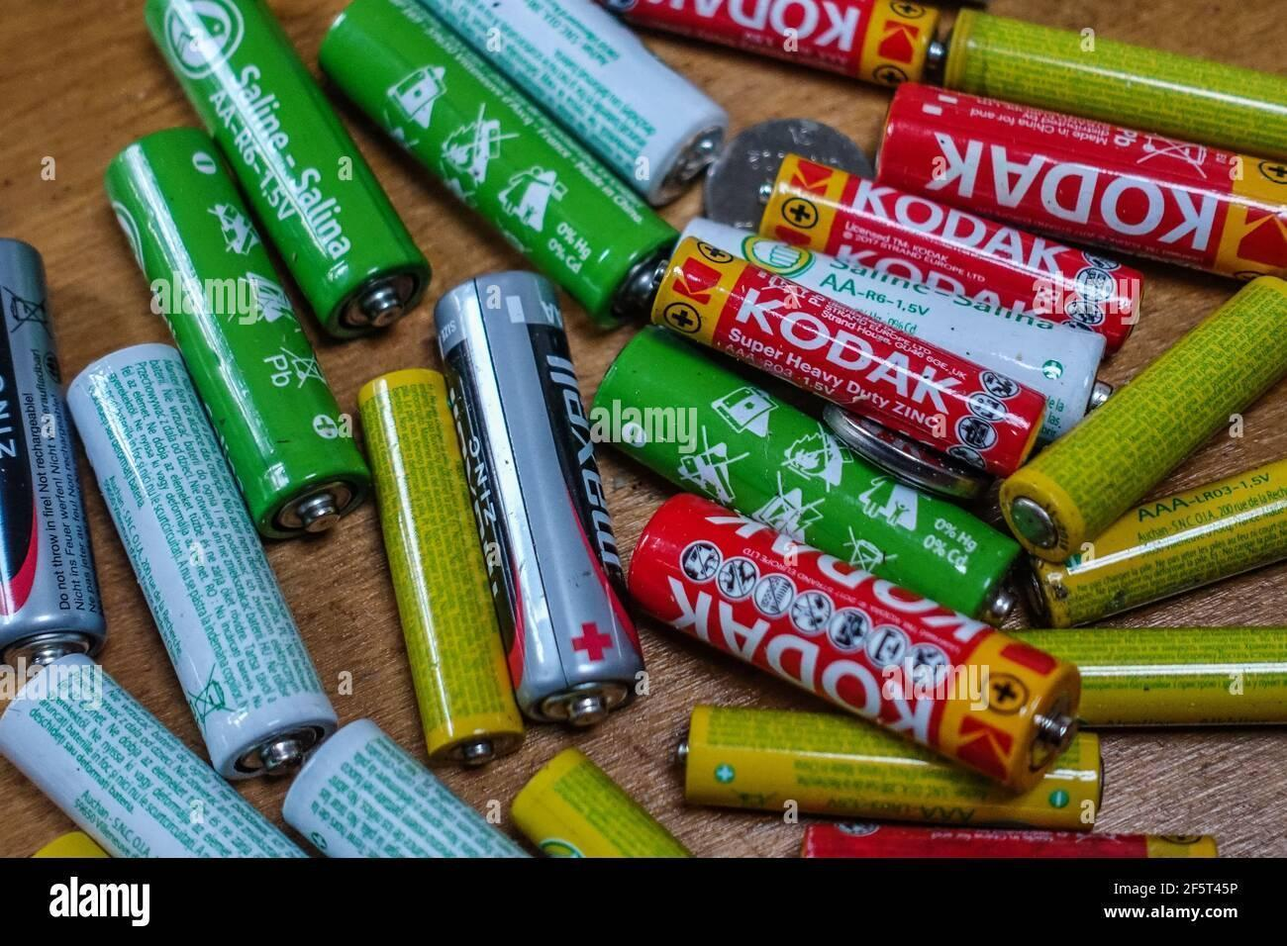AA: (620, 483, 1091, 798), (307, 0, 688, 336), (61, 342, 343, 787), (92, 122, 380, 548), (431, 265, 654, 737), (649, 227, 1053, 484), (141, 0, 437, 348), (996, 267, 1286, 570), (868, 74, 1286, 283), (354, 363, 530, 773)
